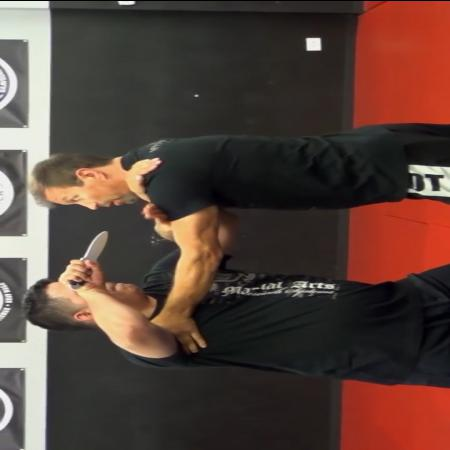long weapon: (54, 228, 115, 292)
